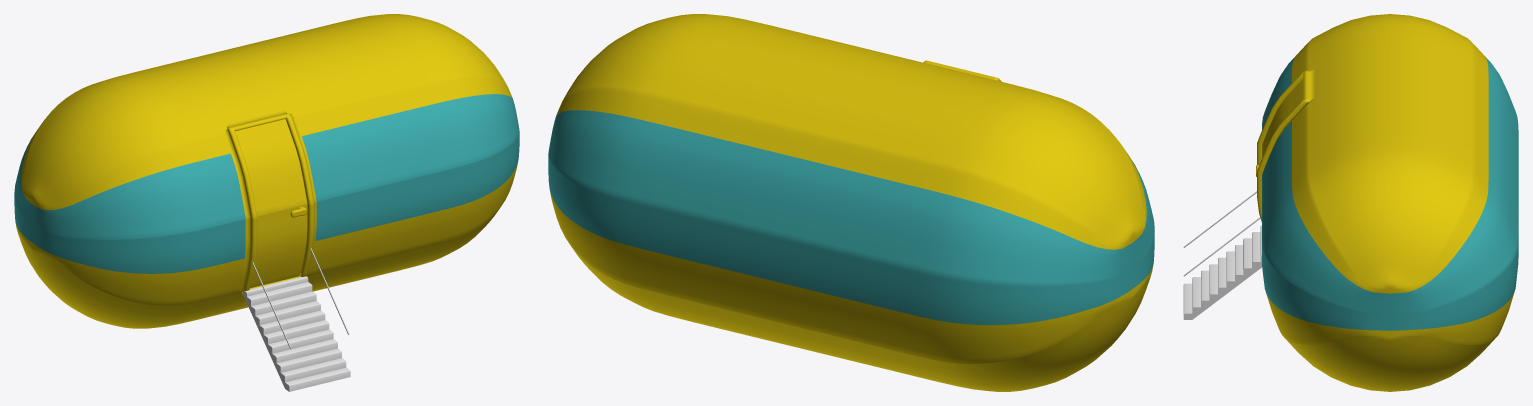
Rendered from Capsuleoutside.fbx.
The picture shows the model from 3 angles, left to right: view 1: azimuth 30°, elevation 25°; view 2: azimuth 150°, elevation 25°; view 3: azimuth 270°, elevation 25°; orthographic projection. The views are drawn at different scales.
Parts seen in each view (by area): view 1: Capsule007, Stair_cap; view 2: Capsule007; view 3: Capsule007, Stair_cap.
Part boxes in pixels (x1,y1,x2,y2): Capsule007: (14, 14, 519, 328); Stair_cap: (242, 248, 350, 391); Capsule007: (548, 14, 1154, 391); Capsule007: (1256, 14, 1518, 391); Stair_cap: (1183, 191, 1261, 319).
Bounding box in the file's own units: 565 × 278 × 348.
